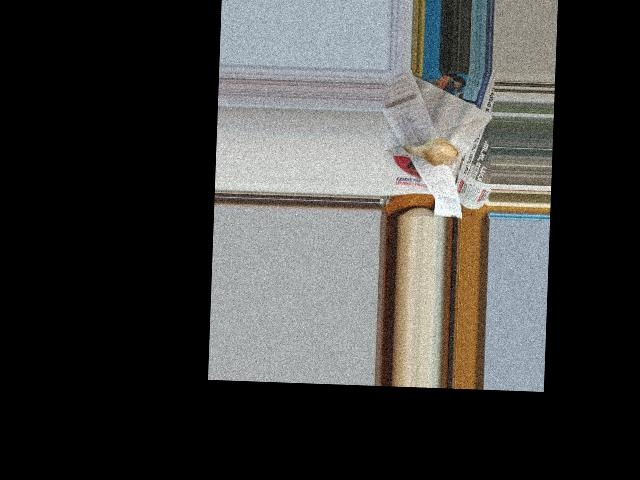onion: (407, 137, 459, 166)
